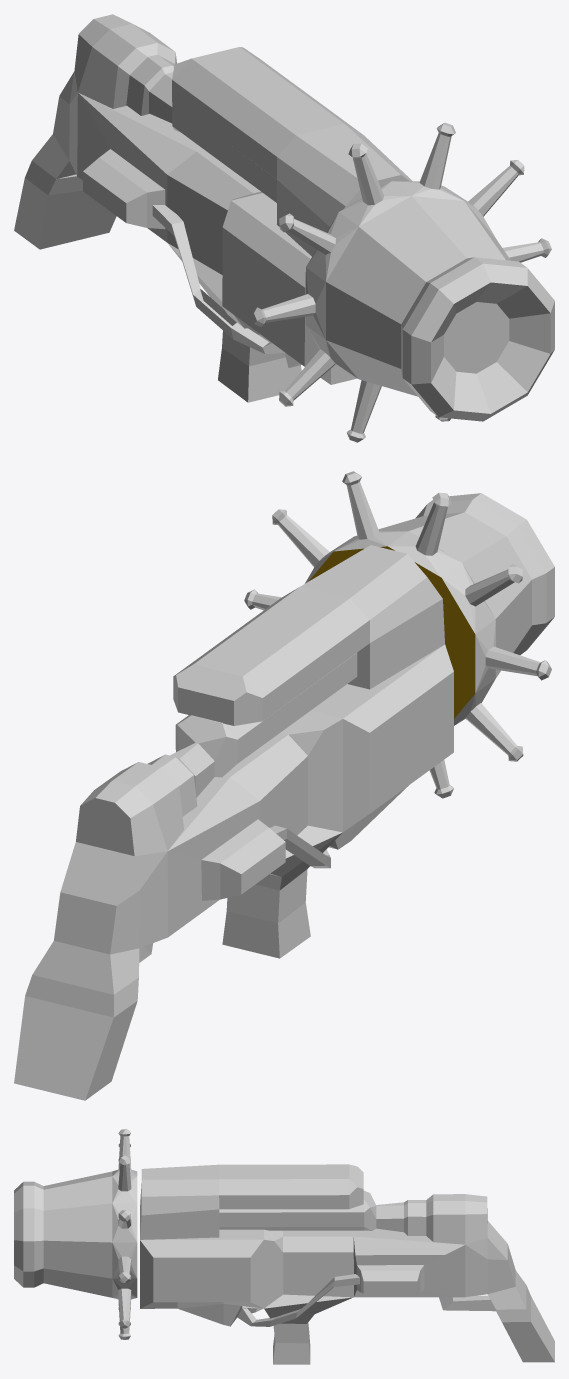
Rendered from Zeusgun.fbx.
The picture shows the model from 3 angles, top to bottom: view 1: azimuth 30°, elevation 25°; view 2: azimuth 150°, elevation 25°; view 3: azimuth 270°, elevation 25°; orthographic projection. The views are drawn at different scales.
Visible parts, largest first — view 1: Zeusgun; view 2: Zeusgun; view 3: Zeusgun.
Boxes of the visible parts, box(x1,y1,x2,y2) form: Zeusgun: box(14, 14, 554, 442); Zeusgun: box(14, 471, 554, 1100); Zeusgun: box(14, 1129, 554, 1364).
Size of the model in its own units: 3.28 by 3.7 by 8.39.
